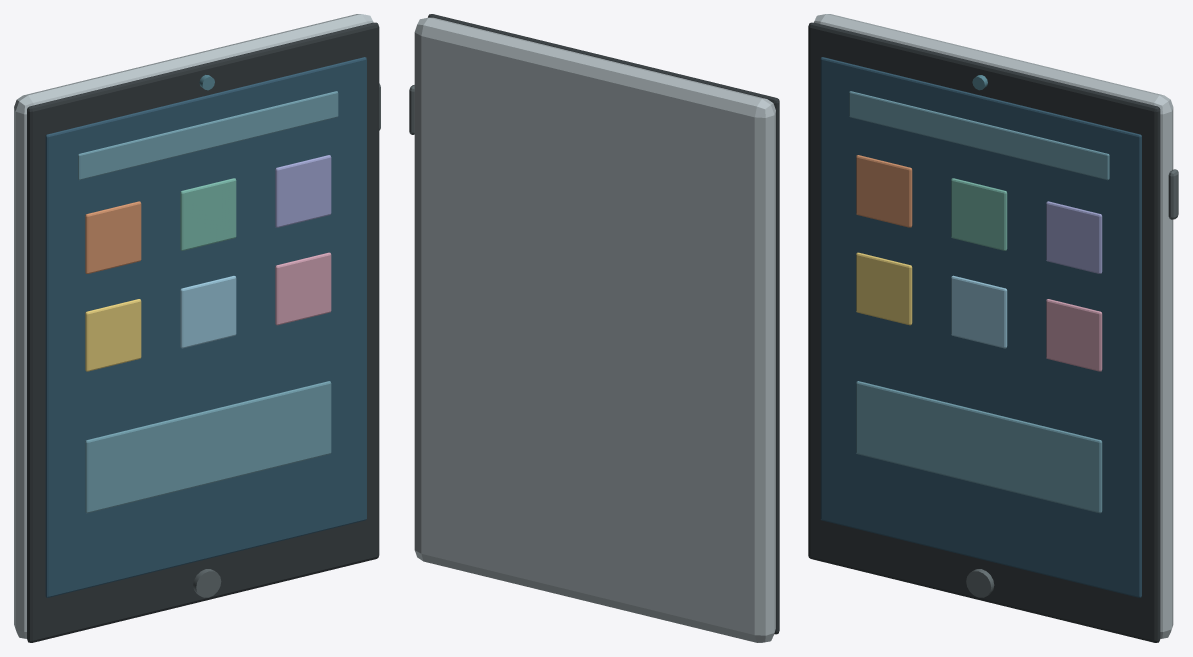
Rendered from tablet.glb.
3 views of the same model, side by side, from view 1: azimuth 30°, elevation 25°; view 2: azimuth 150°, elevation 25°; view 3: azimuth 330°, elevation 25° (orthographic).
Visible parts, largest first — view 1: Tablet_Screen, Tablet_Front_Bezel, Tablet_Lower_Widget, Tablet_Aluminum_Body, Tablet_Header_Bar, Tablet_App_Icon_2, Tablet_App_Icon_5, Tablet_App_Icon_1, Tablet_App_Icon_3, Tablet_App_Icon_4, Tablet_App_Icon_0, Tablet_Home_Button; view 2: Tablet_Aluminum_Body, Tablet_Front_Bezel; view 3: Tablet_Screen, Tablet_Front_Bezel, Tablet_Lower_Widget, Tablet_Aluminum_Body, Tablet_Header_Bar, Tablet_App_Icon_0, Tablet_App_Icon_5, Tablet_App_Icon_2, Tablet_App_Icon_3, Tablet_App_Icon_1, Tablet_App_Icon_4, Tablet_Home_Button (+1 smaller).
Boxes of the visible parts, x1=… form: Tablet_Screen: x1=45, y1=57, x2=366, y2=597; Tablet_Front_Bezel: x1=27, y1=22, x2=379, y2=642; Tablet_Lower_Widget: x1=85, y1=381, x2=331, y2=513; Tablet_Aluminum_Body: x1=14, y1=14, x2=373, y2=638; Tablet_Header_Bar: x1=78, y1=91, x2=338, y2=179; Tablet_App_Icon_2: x1=275, y1=155, x2=331, y2=227; Tablet_App_Icon_5: x1=275, y1=252, x2=331, y2=325; Tablet_App_Icon_1: x1=180, y1=178, x2=236, y2=250; Tablet_App_Icon_3: x1=85, y1=299, x2=141, y2=371; Tablet_App_Icon_4: x1=180, y1=275, x2=236, y2=348; Tablet_App_Icon_0: x1=85, y1=201, x2=141, y2=273; Tablet_Home_Button: x1=193, y1=569, x2=221, y2=597; Tablet_Aluminum_Body: x1=414, y1=17, x2=775, y2=642; Tablet_Front_Bezel: x1=428, y1=14, x2=779, y2=634; Tablet_Screen: x1=820, y1=57, x2=1141, y2=597; Tablet_Front_Bezel: x1=808, y1=22, x2=1160, y2=642; Tablet_Lower_Widget: x1=856, y1=381, x2=1102, y2=513; Tablet_Aluminum_Body: x1=814, y1=14, x2=1173, y2=638; Tablet_Header_Bar: x1=849, y1=91, x2=1109, y2=179; Tablet_App_Icon_0: x1=856, y1=155, x2=912, y2=227; Tablet_App_Icon_5: x1=1046, y1=299, x2=1102, y2=371; Tablet_App_Icon_2: x1=1046, y1=201, x2=1102, y2=273; Tablet_App_Icon_3: x1=856, y1=252, x2=912, y2=325; Tablet_App_Icon_1: x1=951, y1=178, x2=1007, y2=250; Tablet_App_Icon_4: x1=951, y1=275, x2=1007, y2=348; Tablet_Home_Button: x1=966, y1=569, x2=994, y2=597.
Size of the model in its own units: 0.203 by 0.29 by 0.021.
